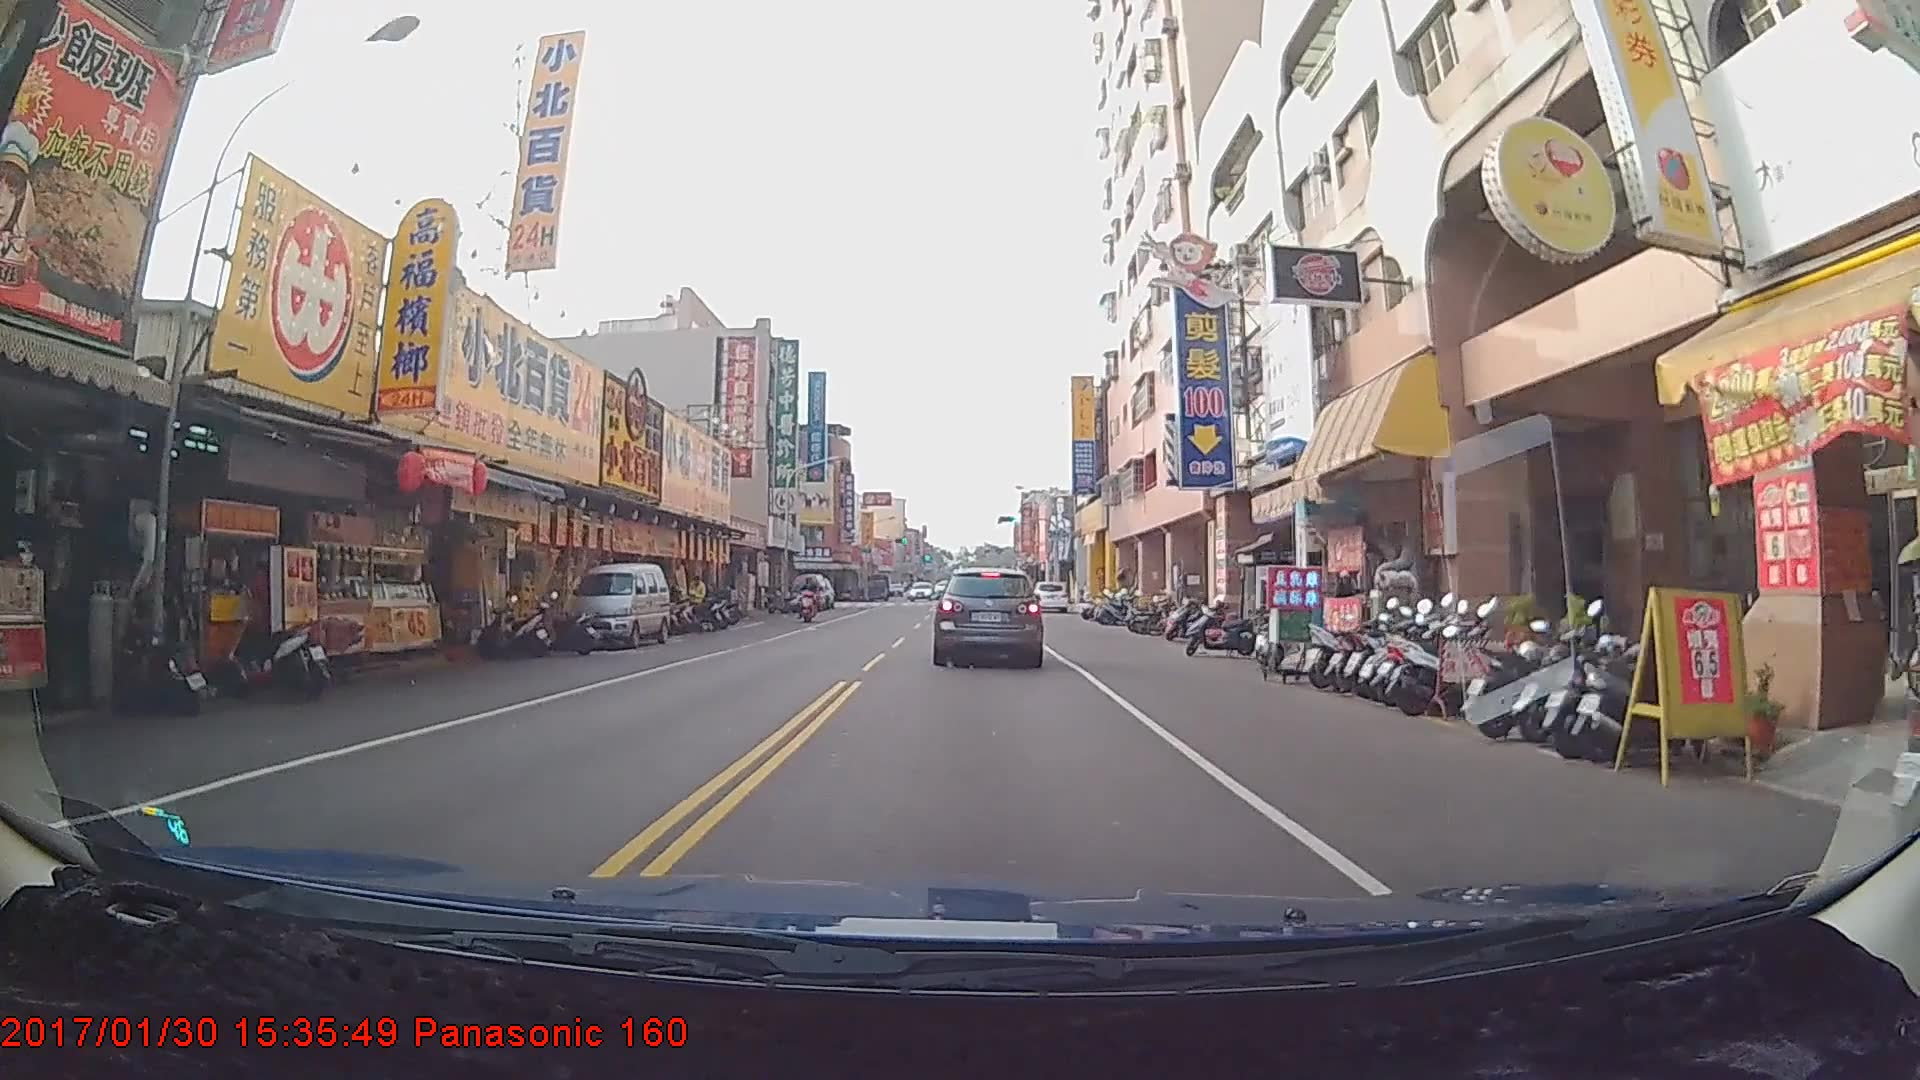pedestrian: (680, 574, 707, 627)
rider: (798, 575, 822, 625)
vehicle: (932, 564, 1044, 668), (565, 561, 670, 646), (791, 572, 827, 611), (1032, 581, 1068, 614)
